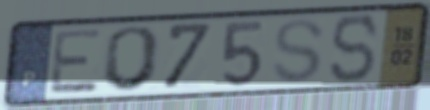5: (217, 18, 269, 89)
7: (165, 22, 215, 93)
E: (46, 26, 106, 97)
O: (99, 23, 165, 94)
S: (269, 17, 328, 86), (329, 11, 381, 86)
